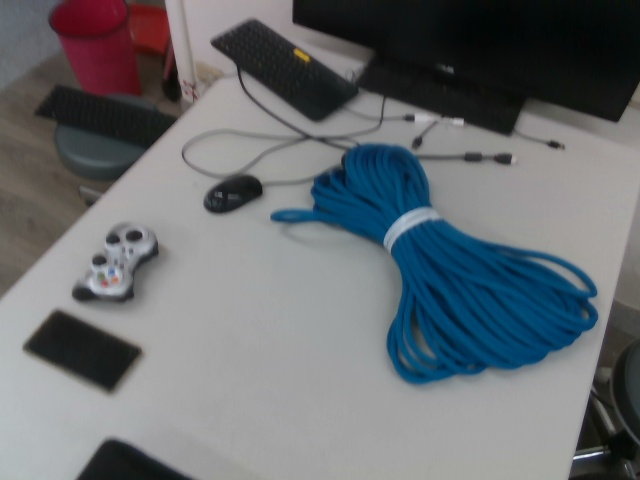rope: (266, 141, 603, 387)
